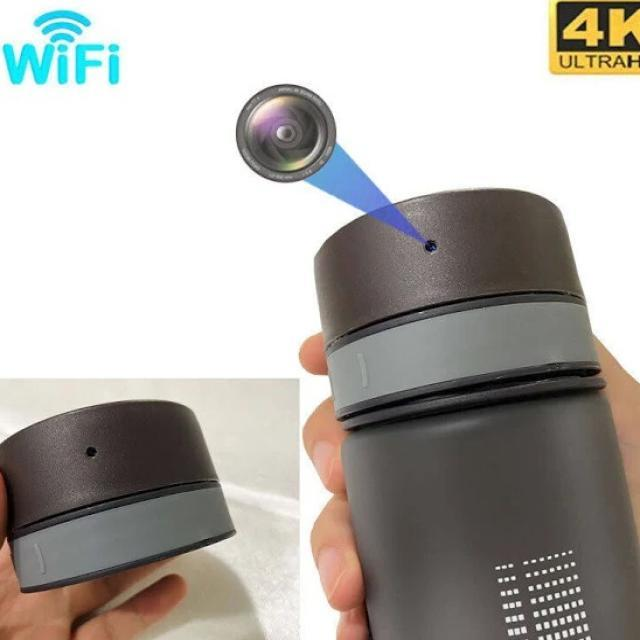hidden camera: (423, 238, 438, 255), (84, 445, 98, 459)
